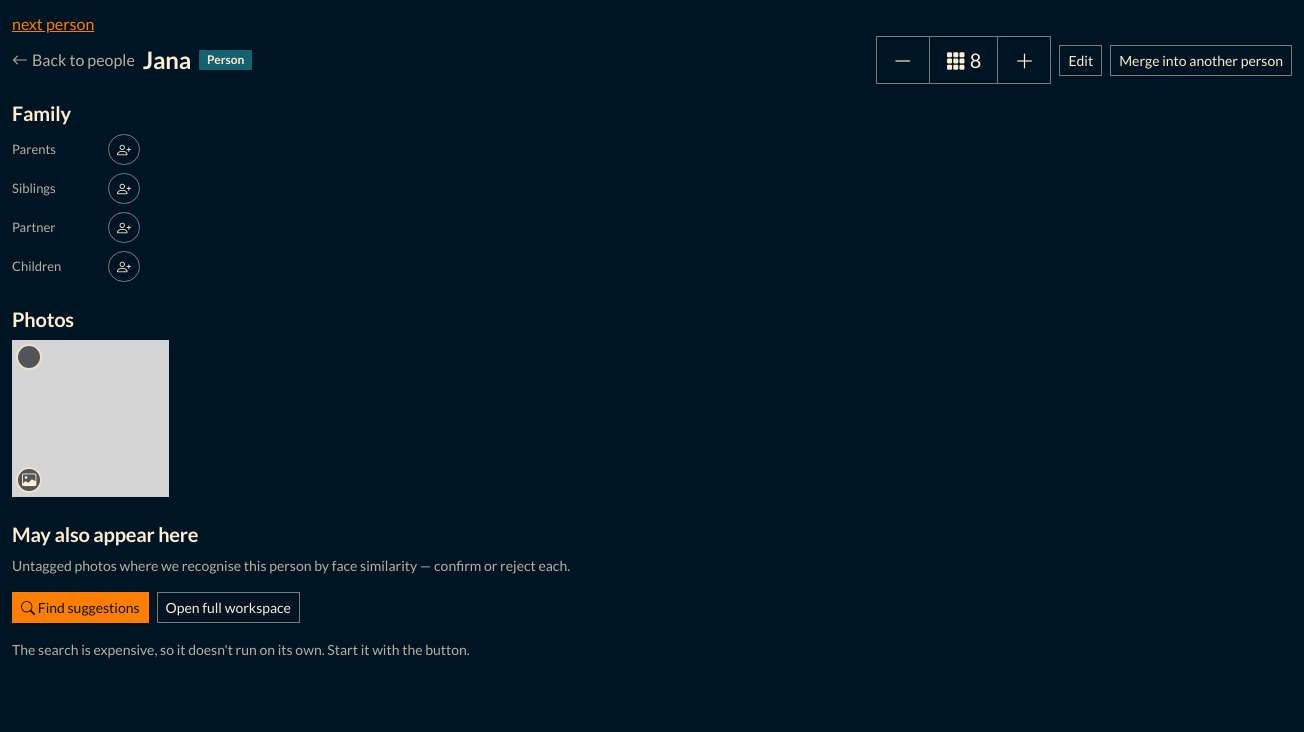
Test: SubjectPage › drops the selection when another person is opened
Click the button named "Select a.jpg" at (29, 357), box [16,344,42,370]
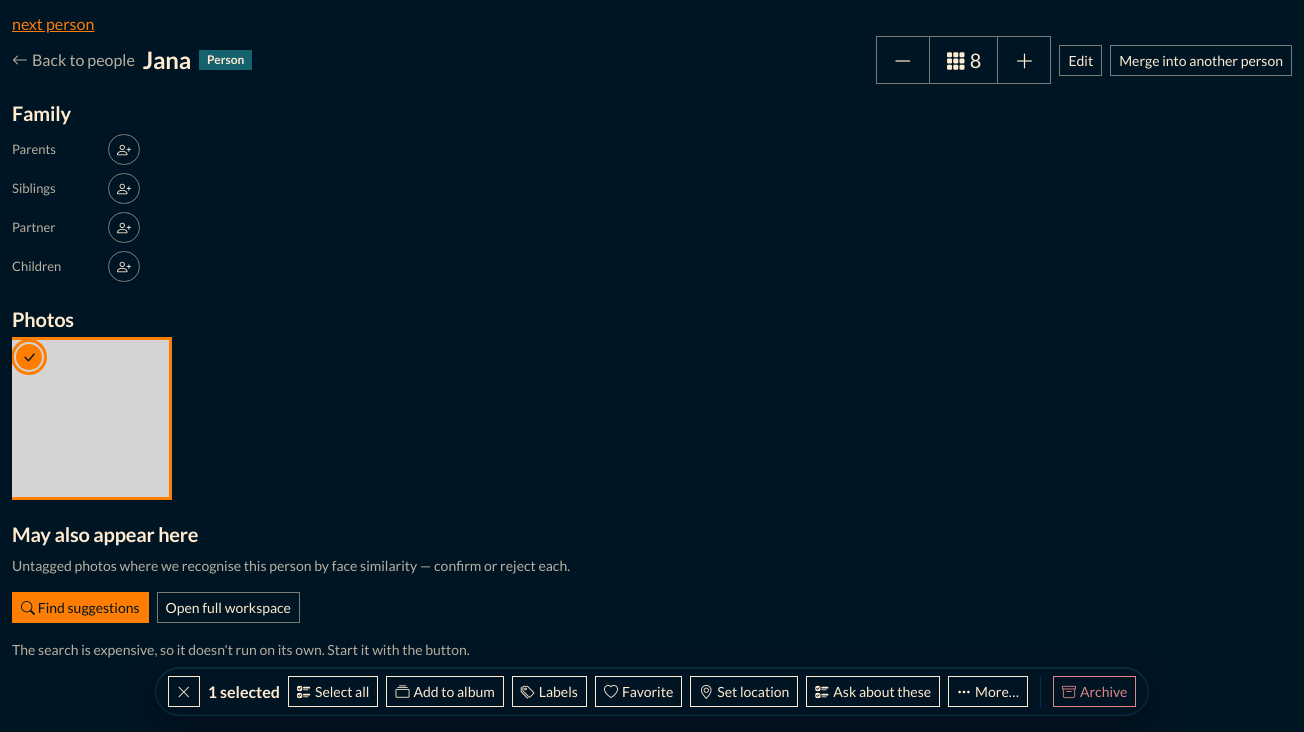
Check: the text "1 selected" is shown, box [208,680,280,704]
Click the link "next person" at (53, 24), box [12,14,94,33]
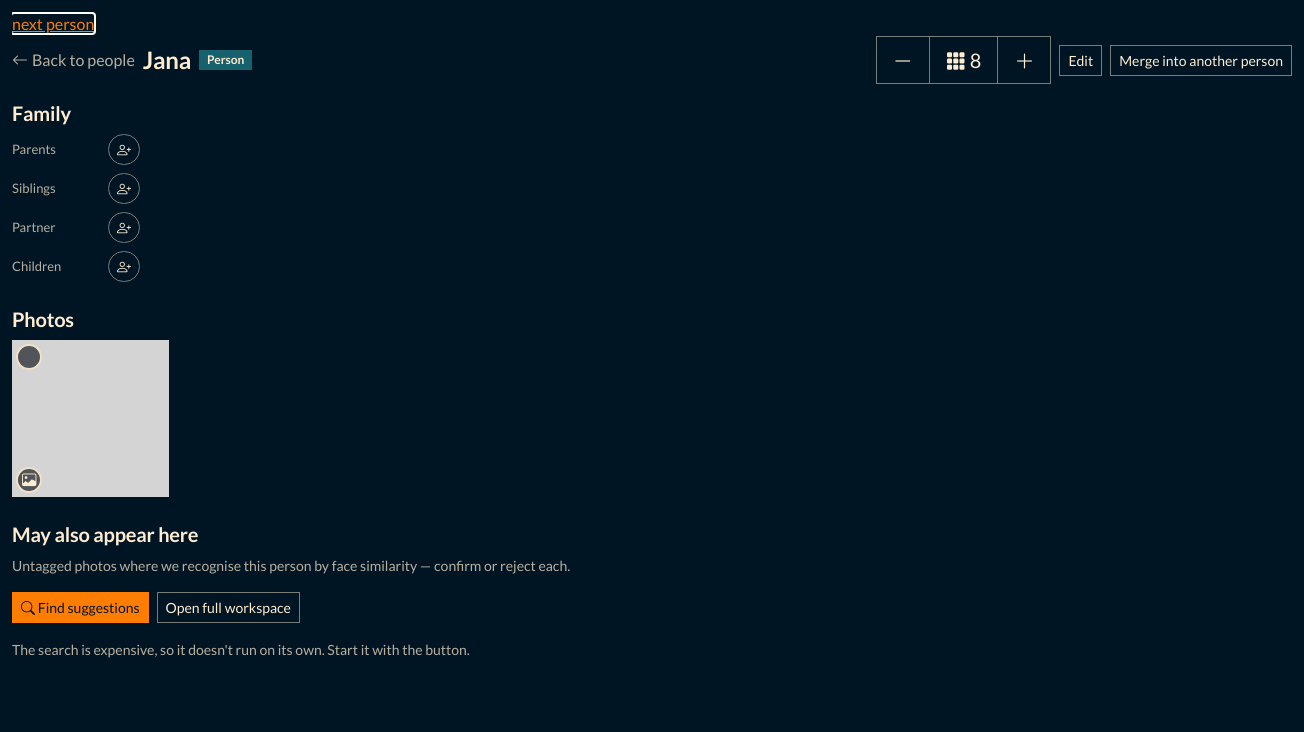
Check: the text "1 selected" is gone
